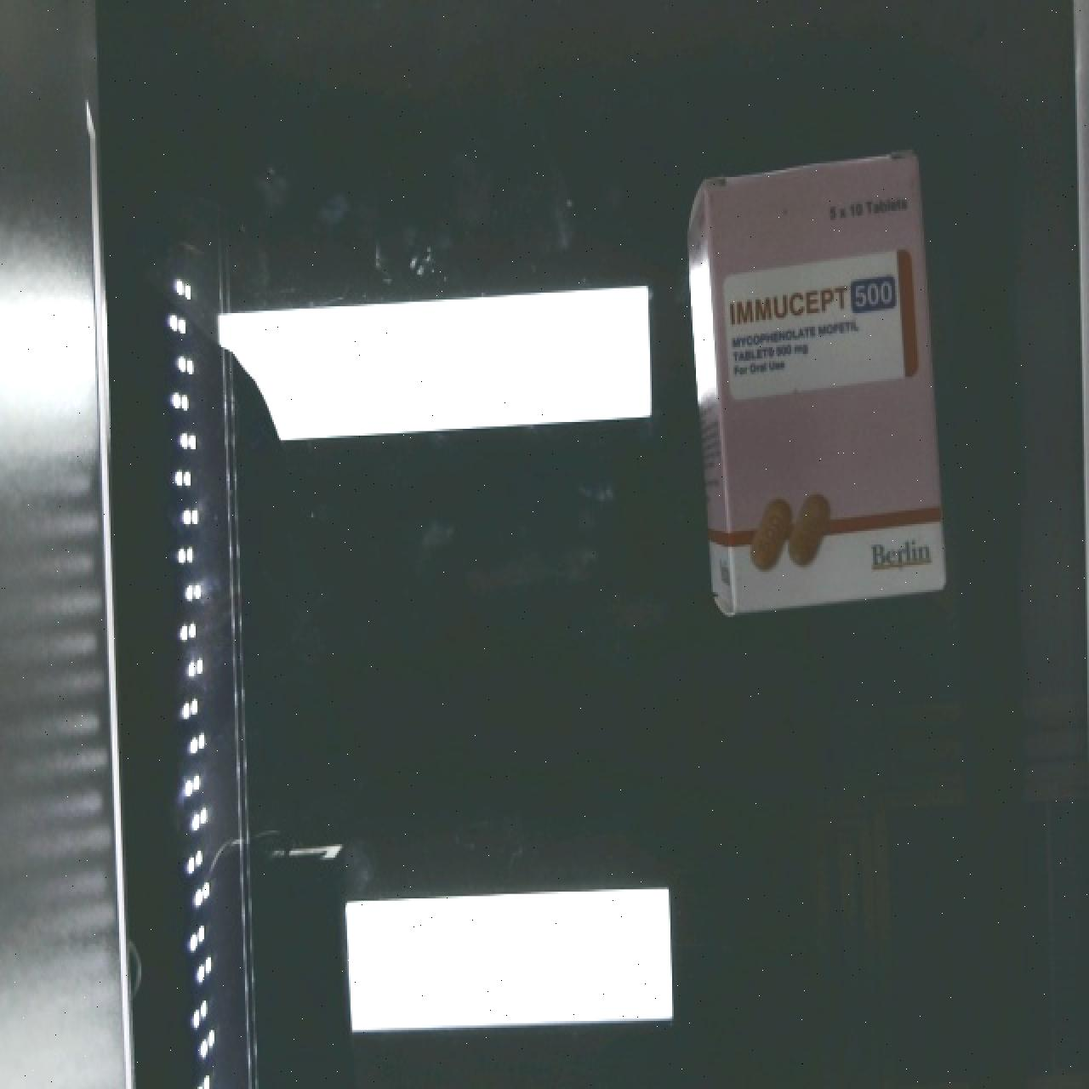medicine_label_obb: (720, 257, 915, 340)
